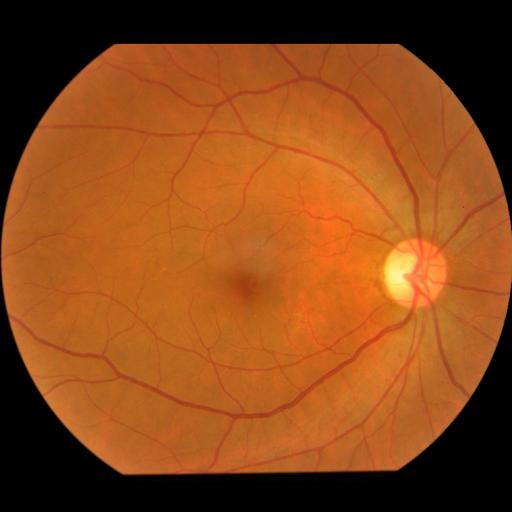Optic Cup: (386, 250, 421, 296)
Optic Disc: (383, 240, 447, 309)
